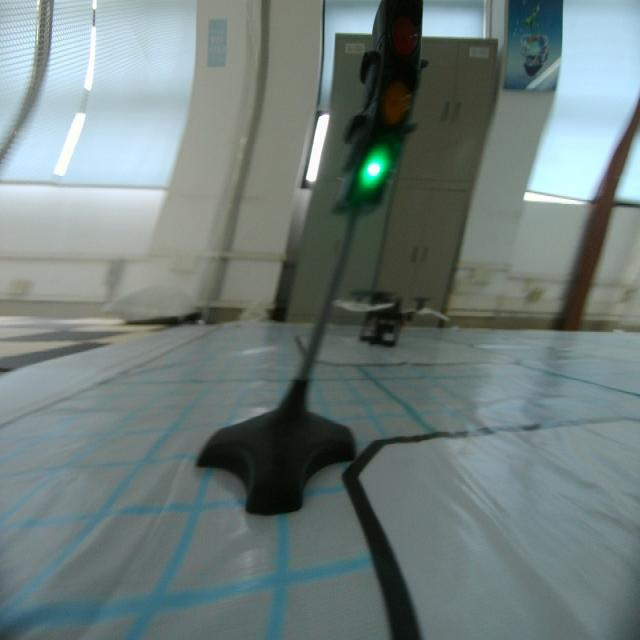green: (346, 4, 426, 211)
